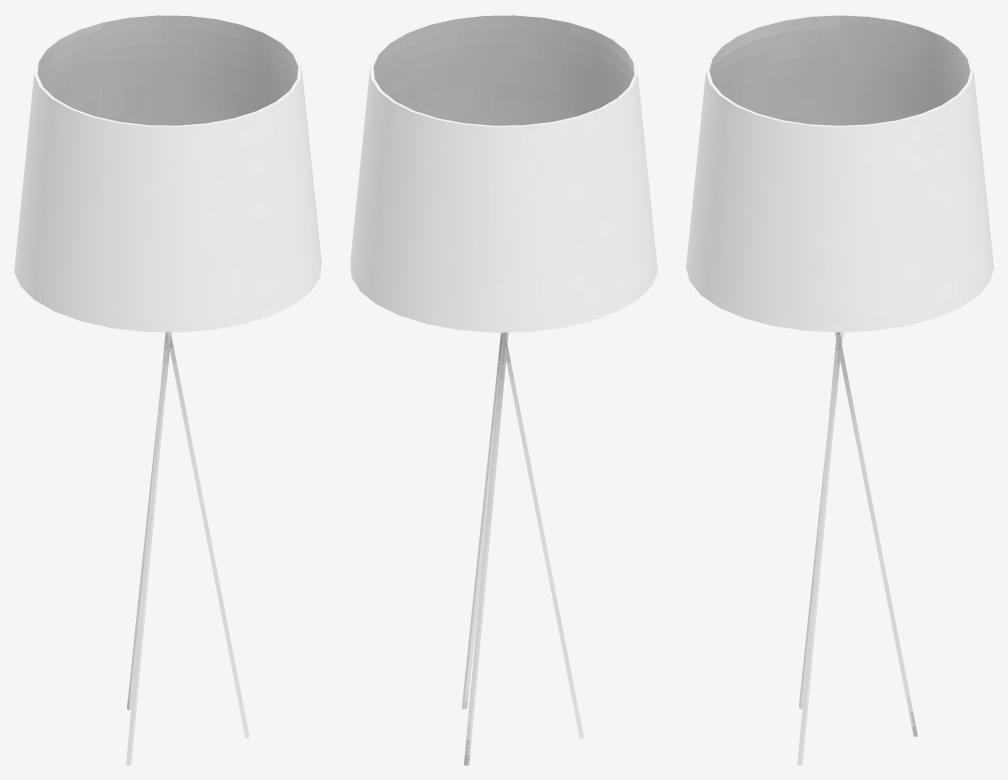
Rendered from LampAplus.glb.
3 views of the same model, side by side, from view 1: azimuth 30°, elevation 25°; view 2: azimuth 150°, elevation 25°; view 3: azimuth 270°, elevation 25° (orthographic).
Visible parts, largest first — view 1: LampAplus, LampAplus.001; view 2: LampAplus, LampAplus.001; view 3: LampAplus, LampAplus.001.
Boxes of the visible parts, x1,y1,x2,y2 form: LampAplus: (14,14,321,332); LampAplus.001: (126,332,249,765); LampAplus: (350,14,657,332); LampAplus.001: (461,332,583,765); LampAplus: (686,14,993,332); LampAplus.001: (797,332,917,765).
Bounding box in the file's own units: 0.2919 × 0.6963 × 0.2919.
1 material, 1 textured.
